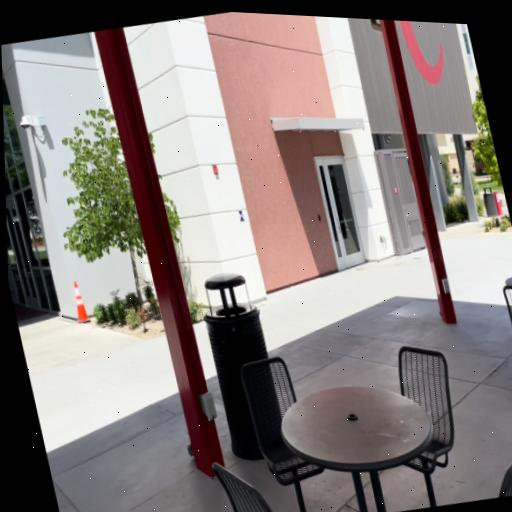target9: (238, 210, 245, 222)
